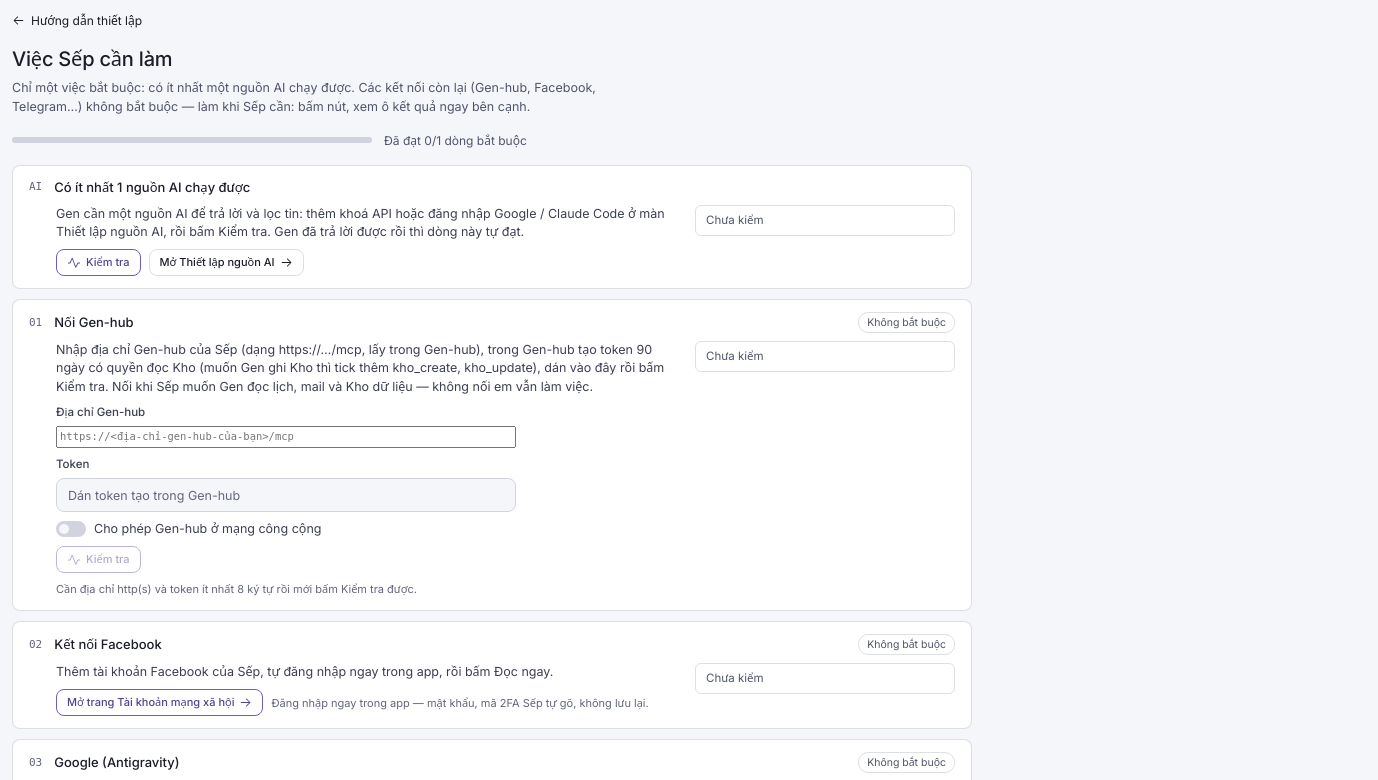
Test: Việc Sếp cần làm — chỉ dòng "nguồn AI" bắt buộc (x/N động) › bấm "Kiểm tra" ở dòng 0 ⇒ POST /boss-checks/ai_source/run (không PIN) ⇒ "Đạt" và 1/1
Check: the 1st text "Chưa kiểm" is shown, box [706, 213, 764, 227]
Click the button "Kiểm tra" next to "Mở Thiết lập nguồn AI": (98, 263) [56, 249, 141, 276]
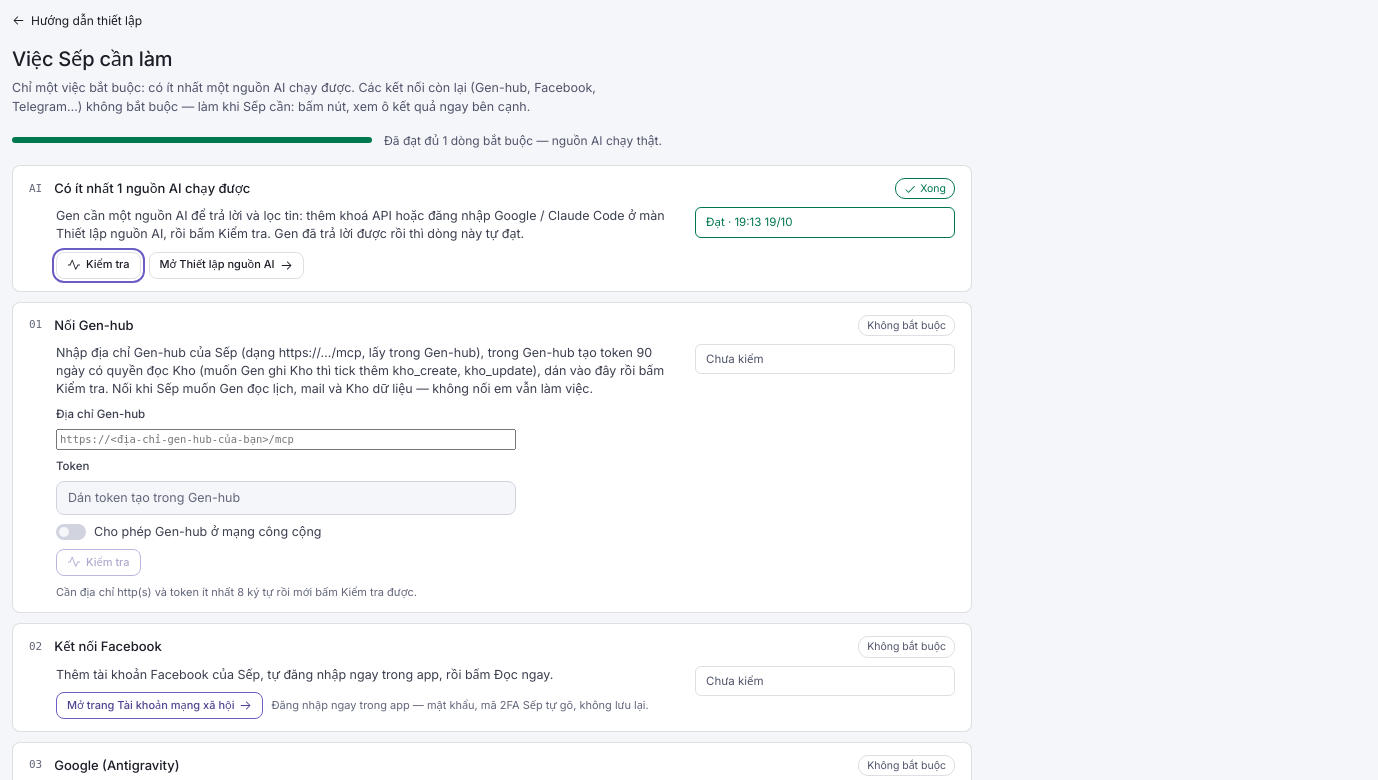
Check: the text "Đạt · 19:13 19/10" is shown, box [706, 215, 792, 229]
Check: the text "Đã đạt đủ 1 dòng bắt buộc — nguồn AI chạy thật." is shown, box [384, 132, 662, 149]
Check: the text "Xong" is shown, box [895, 178, 955, 199]
